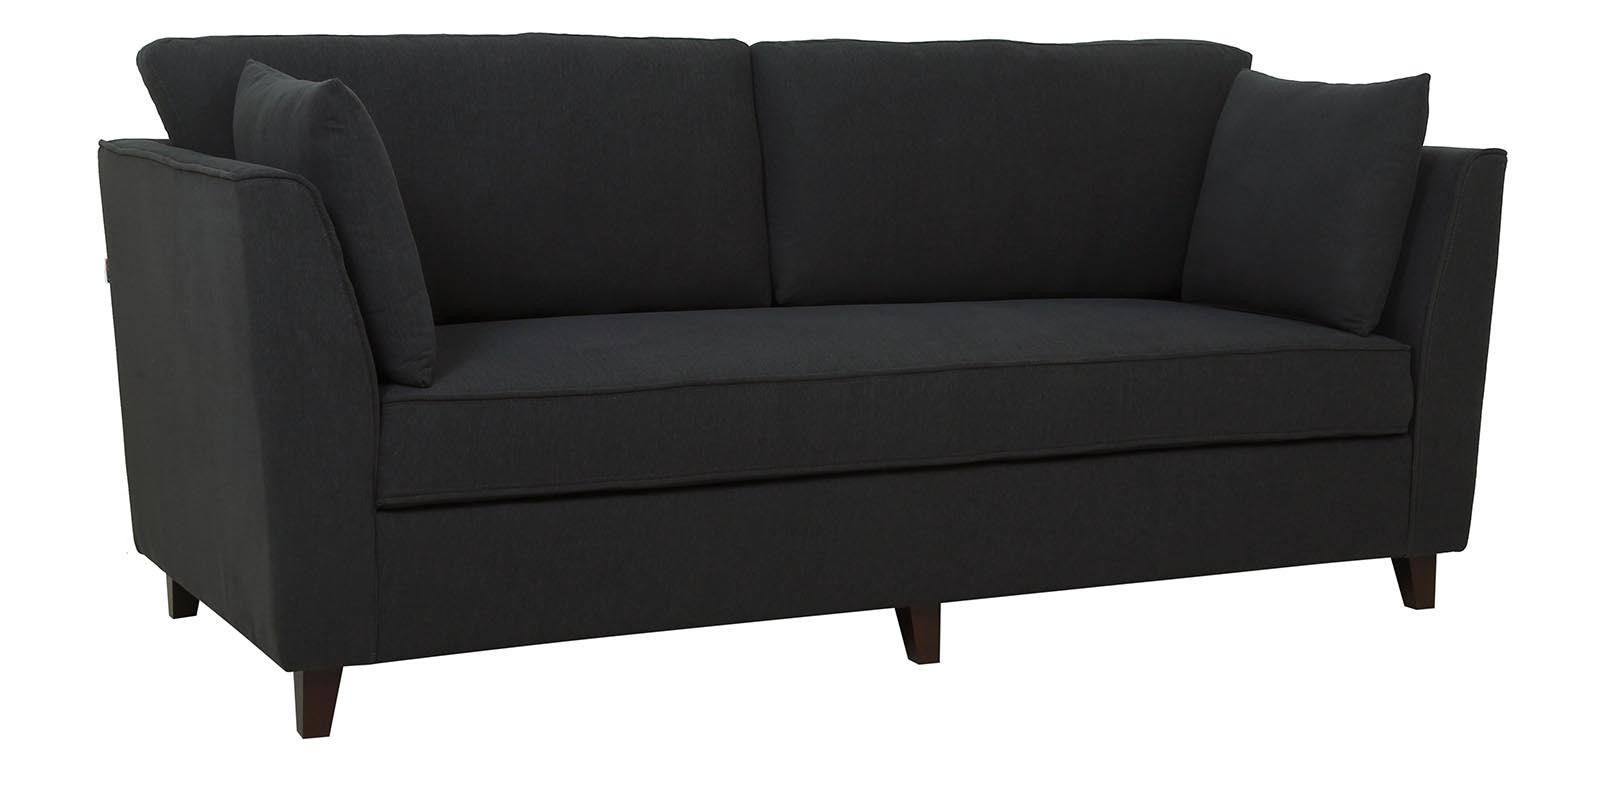Miranda Three Seater Sofa in Charcoal Grey Colour by CasaCraft: (97, 34, 1508, 737)
